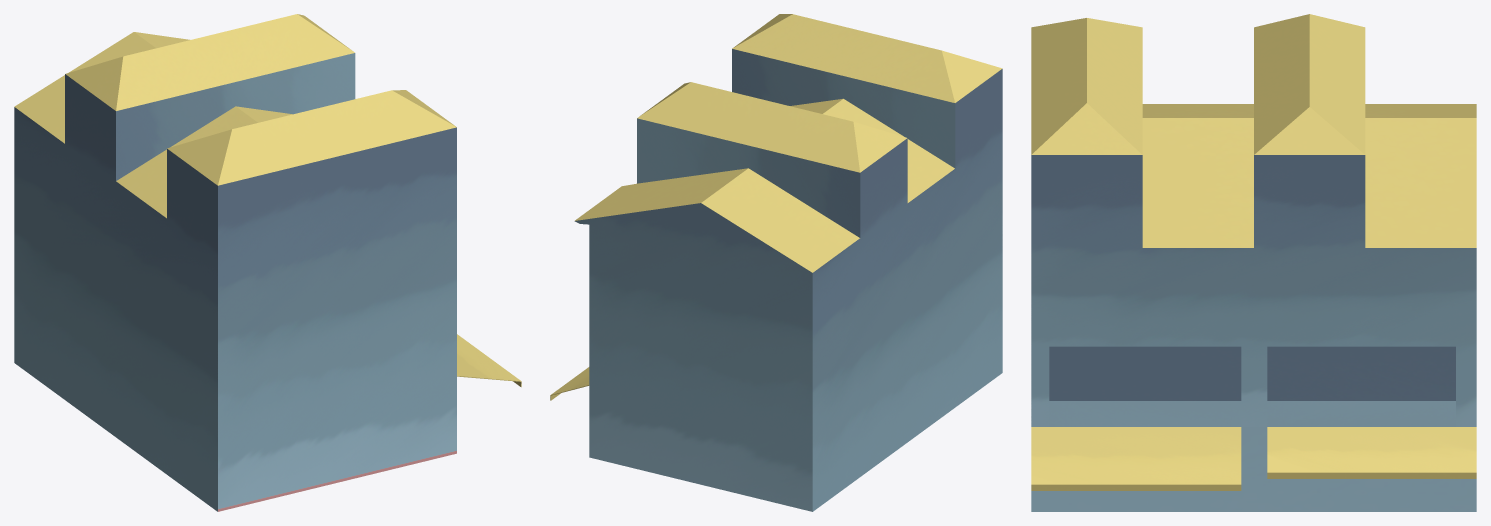
File: boutik&maisons.fbx
The picture shows the model from 3 angles, left to right: view 1: azimuth 30°, elevation 25°; view 2: azimuth 150°, elevation 25°; view 3: azimuth 270°, elevation 25°; orthographic projection. The views are drawn at different scales.
Visible parts, largest first — view 1: boutik&maisons.001; view 2: boutik&maisons.001; view 3: boutik&maisons.001.
Part boxes in pixels (x1,y1,x2,y2): boutik&maisons.001: (14, 14, 521, 511); boutik&maisons.001: (550, 14, 1002, 511); boutik&maisons.001: (1031, 14, 1476, 511).
Bounding box in the file's own units: 449 × 500 × 521.
